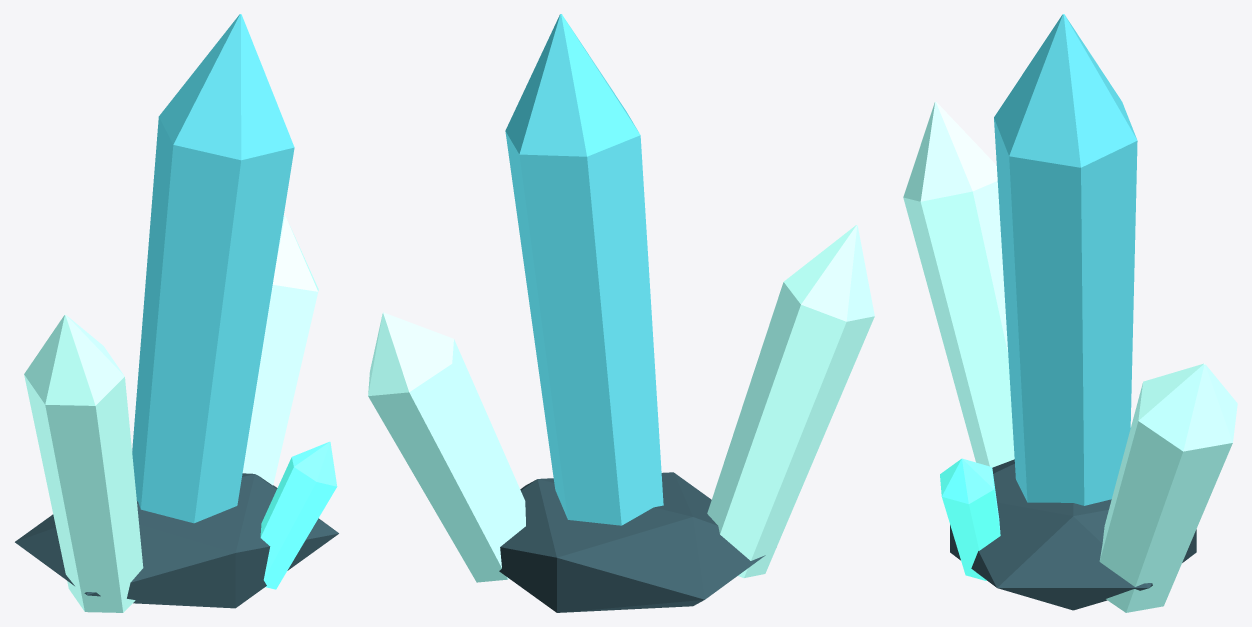
The model's file is crystal-cluster.glb.
3 views of the same model, side by side, from view 1: azimuth 30°, elevation 25°; view 2: azimuth 150°, elevation 25°; view 3: azimuth 270°, elevation 25° (orthographic). The views are drawn at different scales.
Visible parts, largest first — view 1: Vesper / crystal-cluster; view 2: Vesper / crystal-cluster; view 3: Vesper / crystal-cluster.
Part boxes in pixels (x1=…): Vesper / crystal-cluster: x1=15, y1=14, x2=338, y2=612; Vesper / crystal-cluster: x1=368, y1=14, x2=874, y2=612; Vesper / crystal-cluster: x1=903, y1=14, x2=1237, y2=612.
Size of the model in its own units: 2.94 by 4.02 by 2.08.
